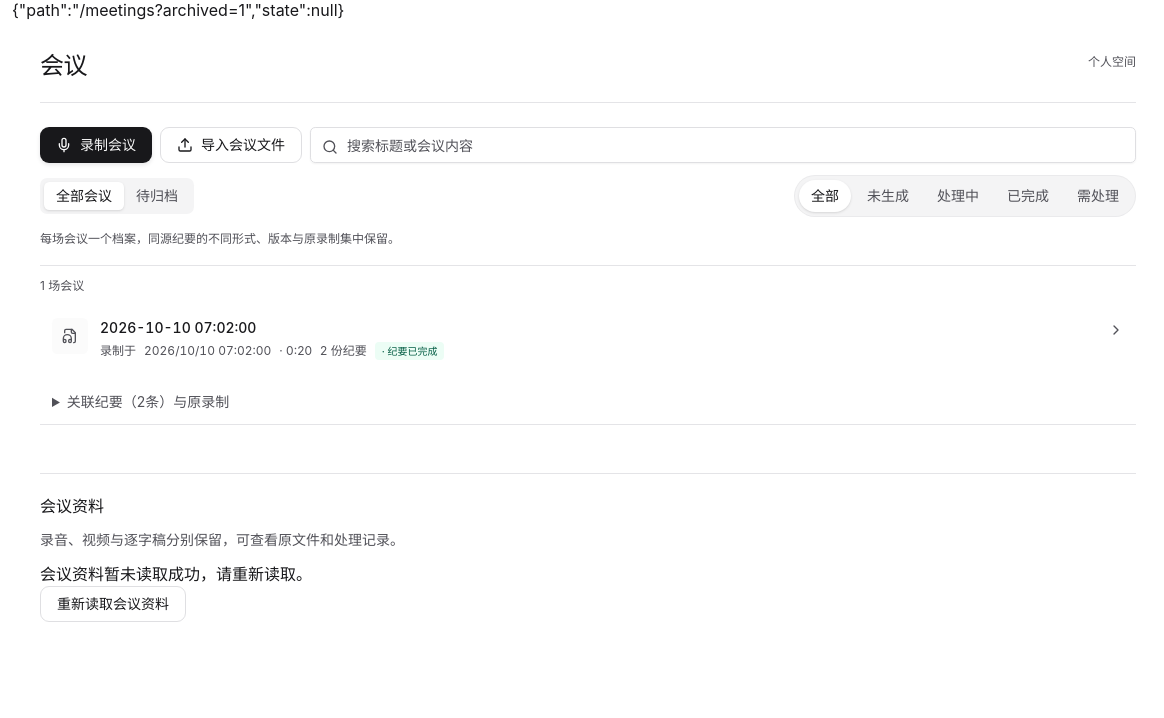
it: retains every version and original under the same dossier despite historical archive flags
The image size is (1164, 718).
What coordinates should you click on to do the following:
click the heading "关联纪要（2条）与原录制"
I would click on:
 (148, 402)
Its box is [67,393,229,410].
(page scrolled)
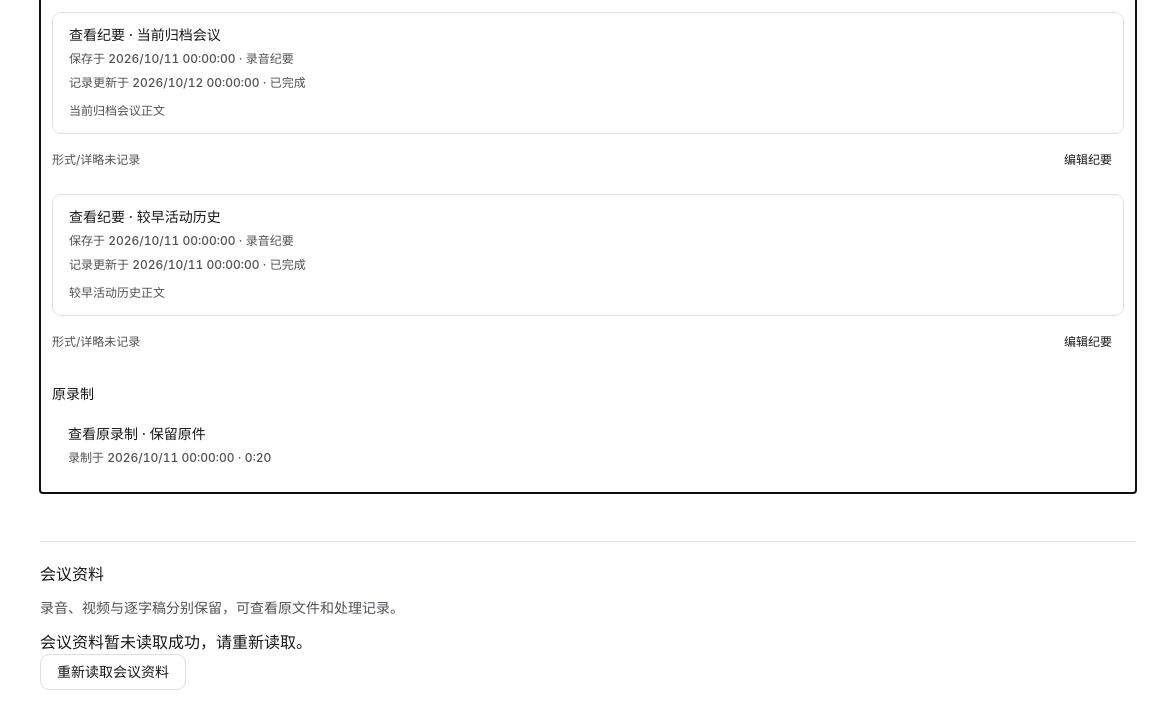
Expected: the button "查看纪要 · 较早活动历史" is shown, [52,194,1124,316]
Expected: the button "查看纪要 · 当前归档会议" is shown, [52,12,1124,134]
Expected: the button "查看原录制 · 保留原件 录制于 2026/10/11 00:00:00 · 0:20" is shown, [52,412,1124,480]
